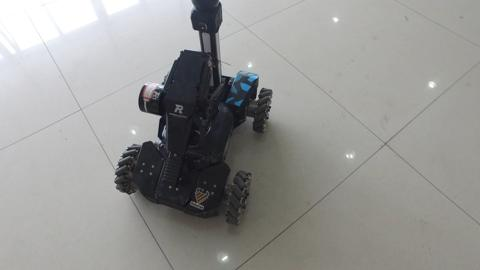chariot: (101, 11, 293, 232)
